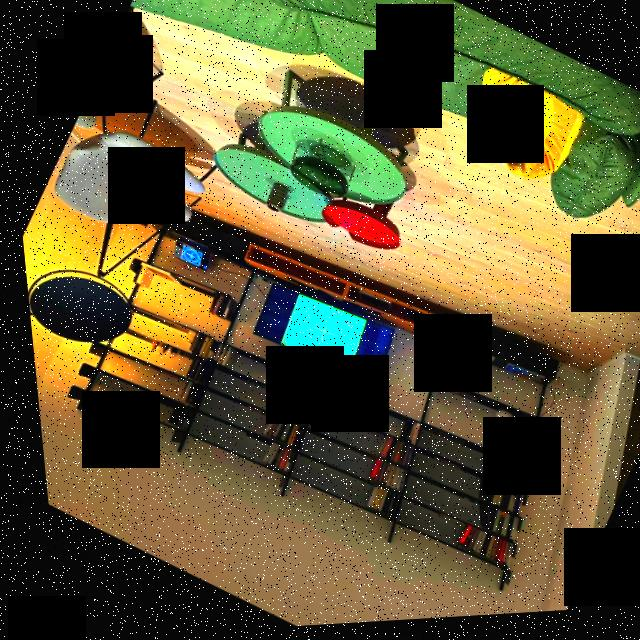Marker: (265, 288, 367, 381), (171, 244, 199, 269)
